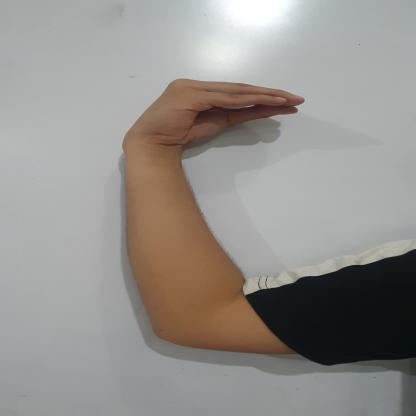Malam: (118, 70, 320, 169)
